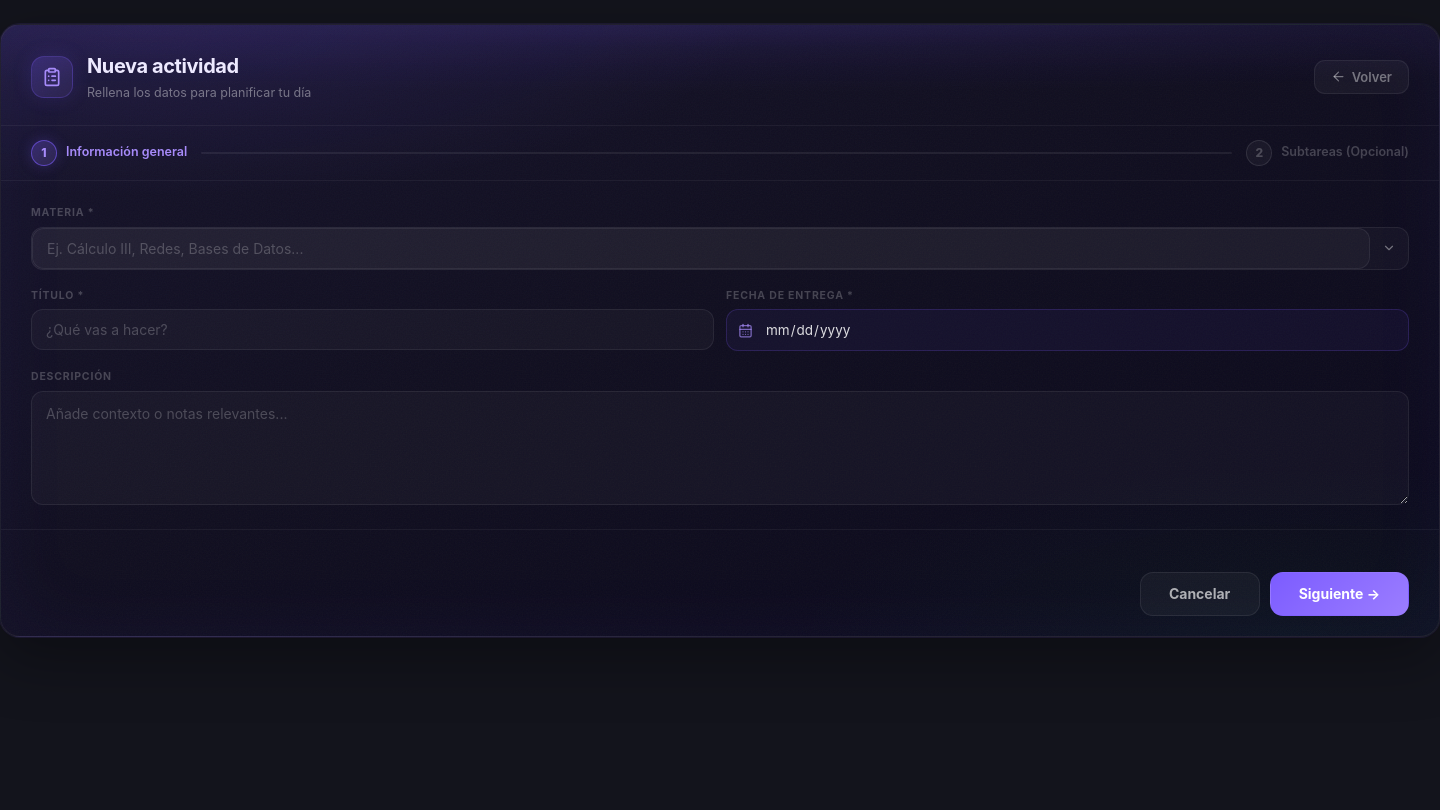
Test: CreateActivityView — validación del paso 1 › muestra los errores al intentar avanzar sin datos
Click the button with test id "create-activity-next-btn" at (1339, 594), box [1270, 572, 1409, 616]
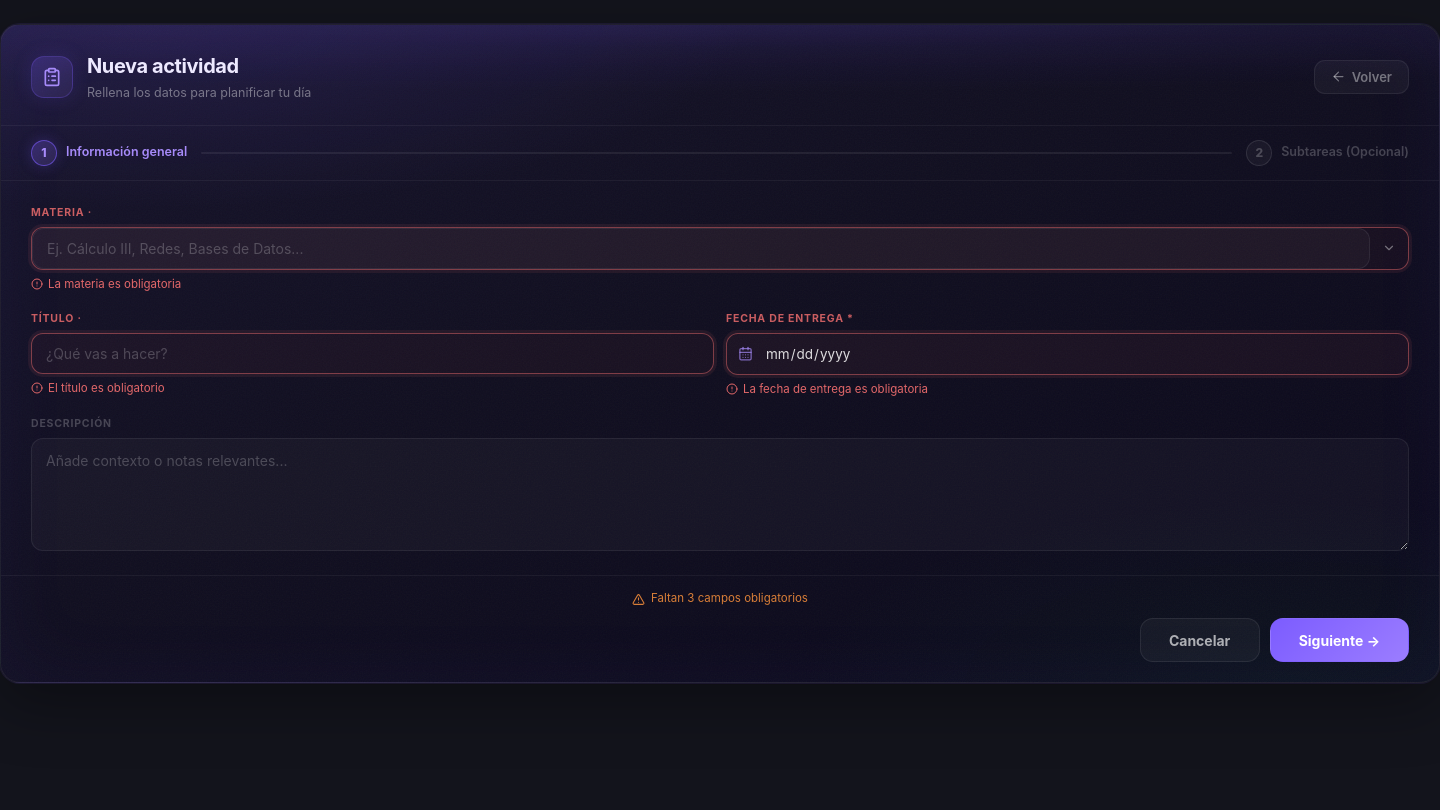
Now the text "La materia es obligatoria" is shown, box [31, 276, 181, 290]
Now the text "El título es obligatorio" is shown, box [31, 380, 165, 394]
Now the text "La fecha de entrega es obligatoria" is shown, box [726, 382, 928, 396]
